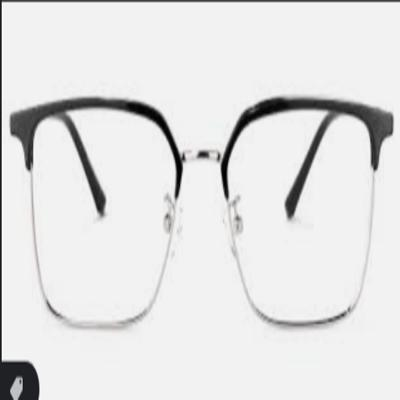glasses: (4, 91, 400, 343)
